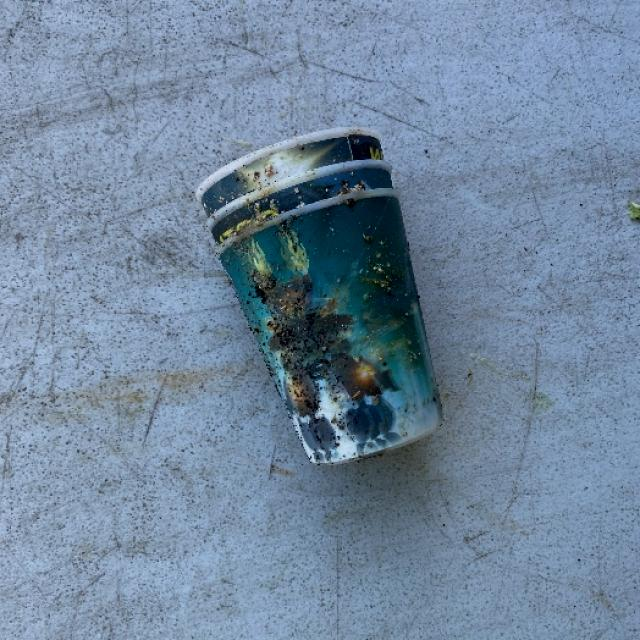inorganic: (202, 124, 452, 468)
